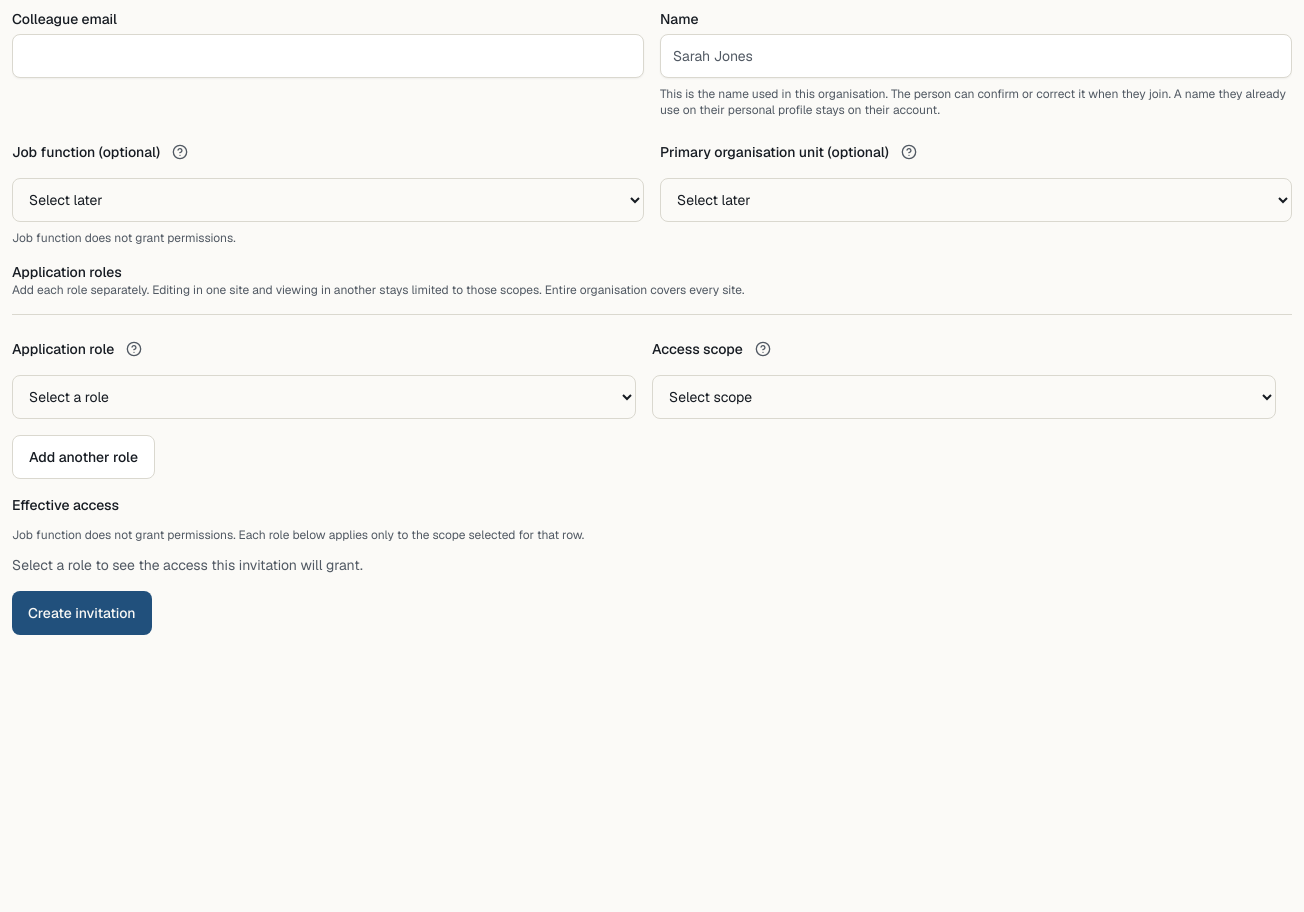
Test case: InviteColleagueForm invitation link UX › shows a copy button after successful invitation creation
Type "colleague@example.test" into the field labelled "Colleague email" at (328, 56), box [12, 34, 644, 78]
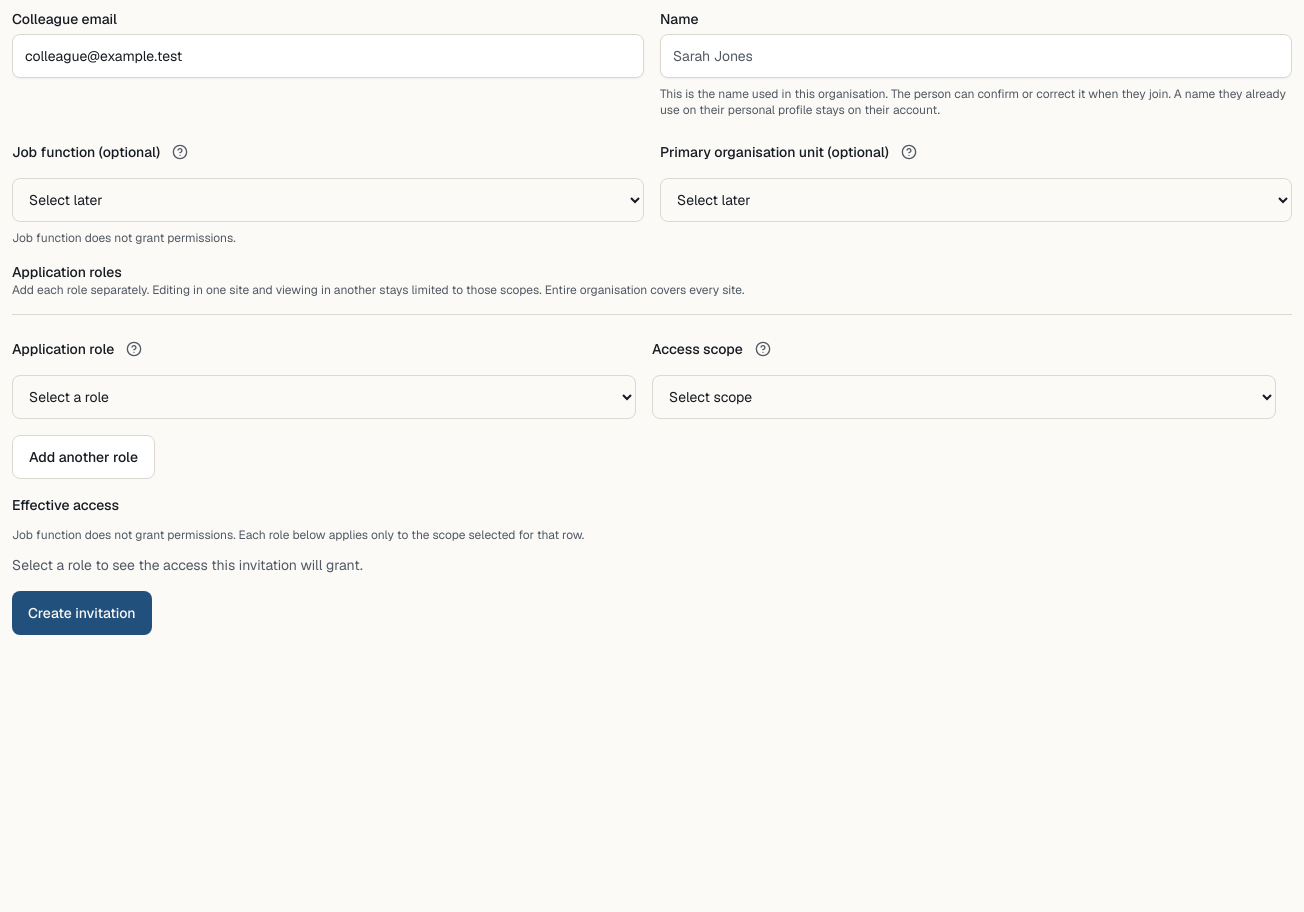
Select "Manager" in the dropdown with id "invite-role" at (324, 397), box [12, 375, 636, 419]
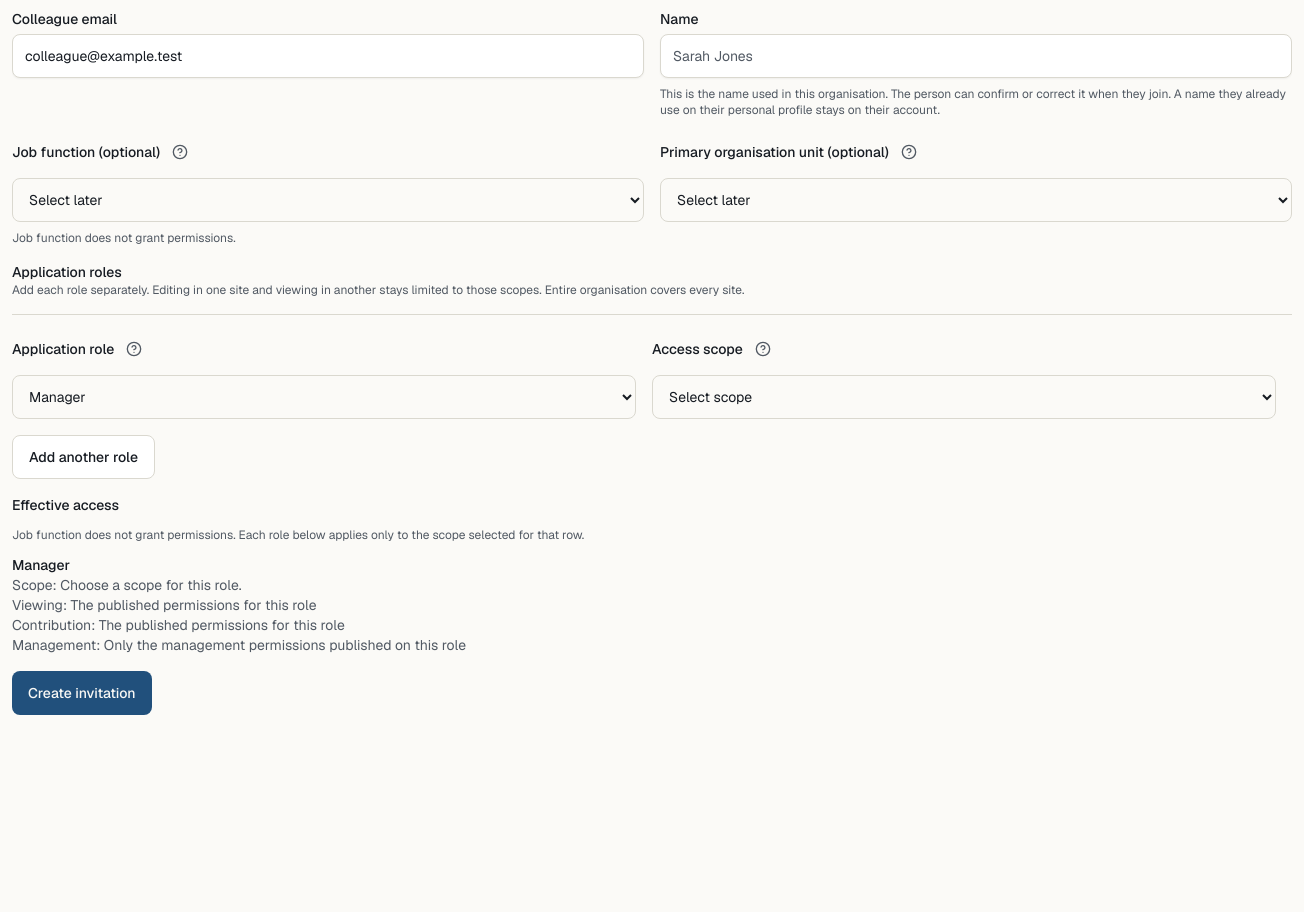
Select "Entire organisation" in the dropdown with id "invite-scope" at (964, 397), box [652, 375, 1276, 419]
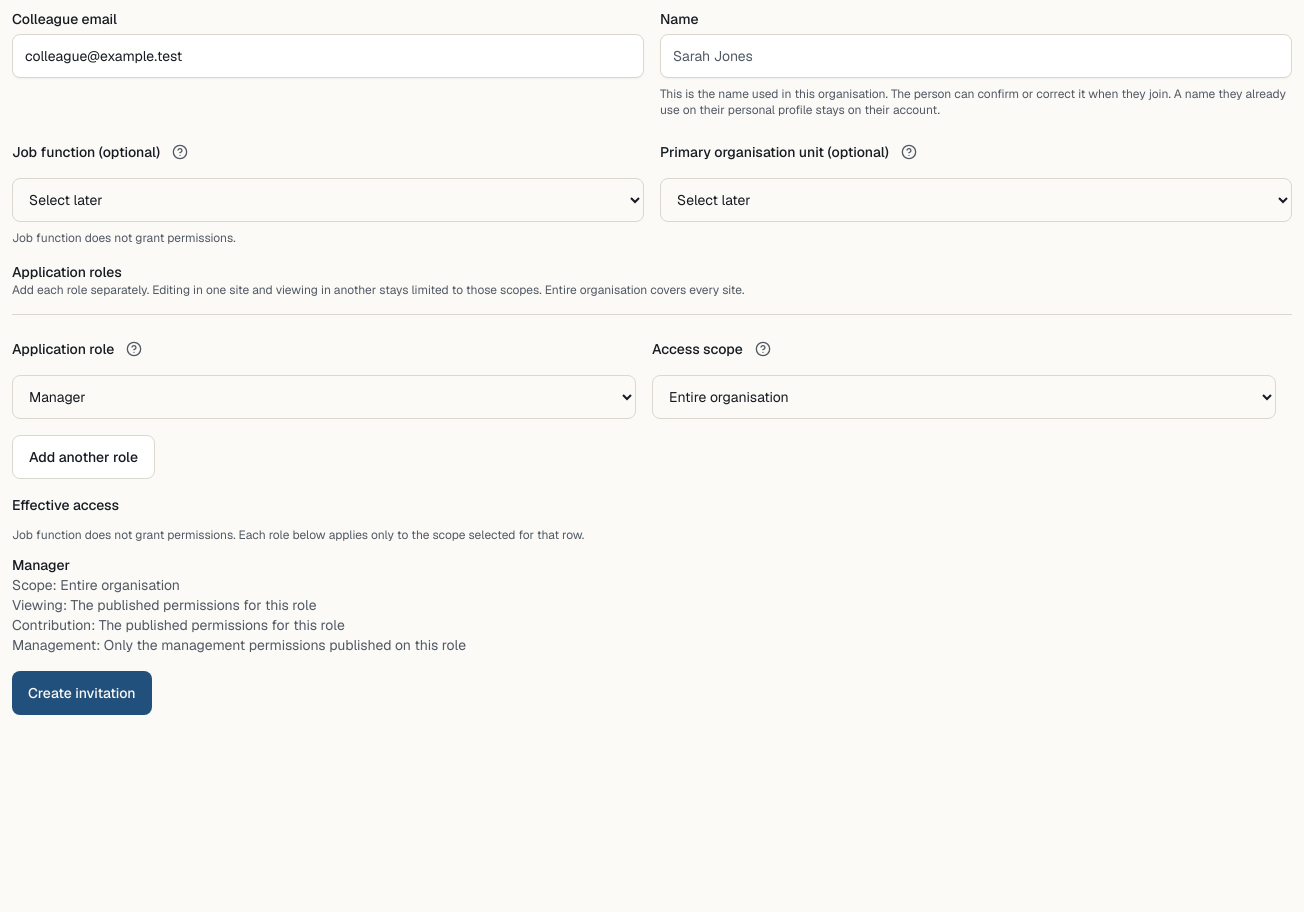
Click the button "Create invitation" at (82, 693), box [12, 671, 152, 715]
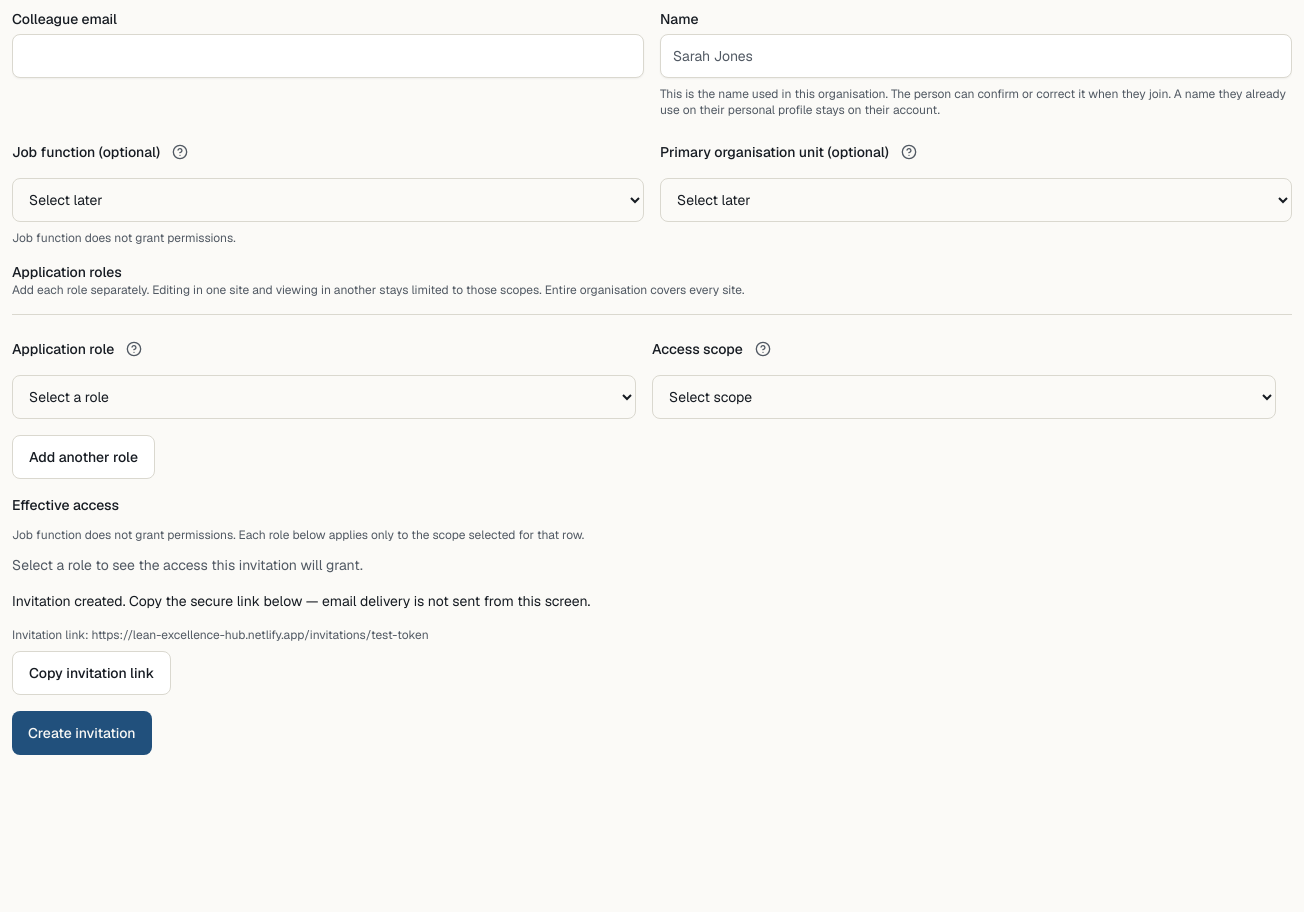
Expected: the button with test id "copy-invitation-link-button" is shown
Expected: the text "Invitation created. Copy the secure link below" is shown, [12, 592, 590, 610]
Click the button with test id "copy-invitation-link-button" at (92, 673), box [12, 651, 171, 695]
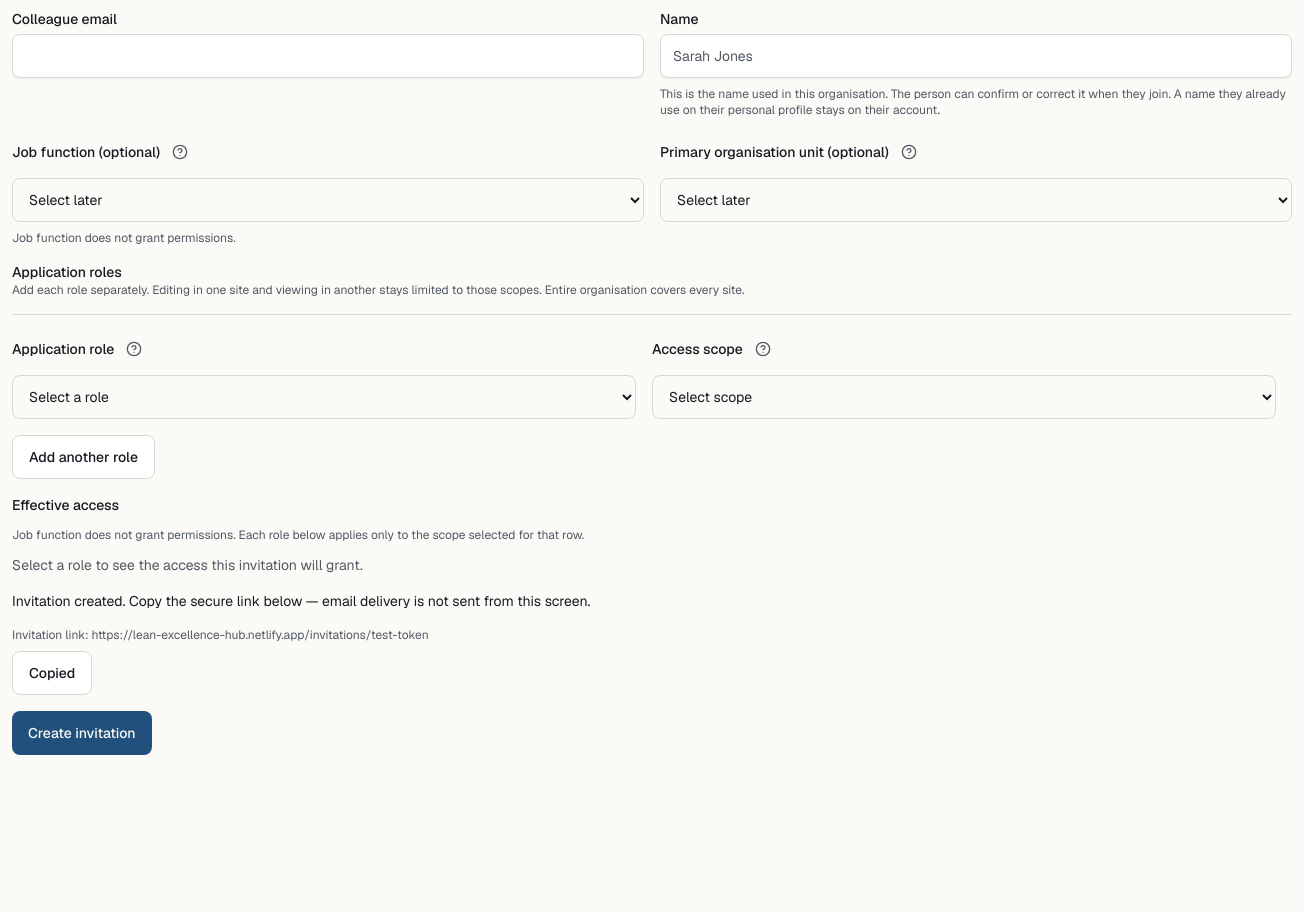
Expected: the button "Copied" is shown, [12, 651, 92, 695]
